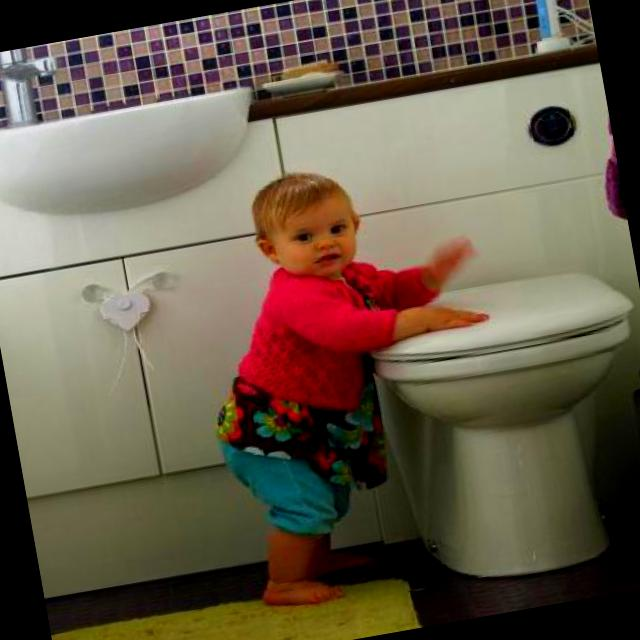Person: (172, 144, 534, 616)
